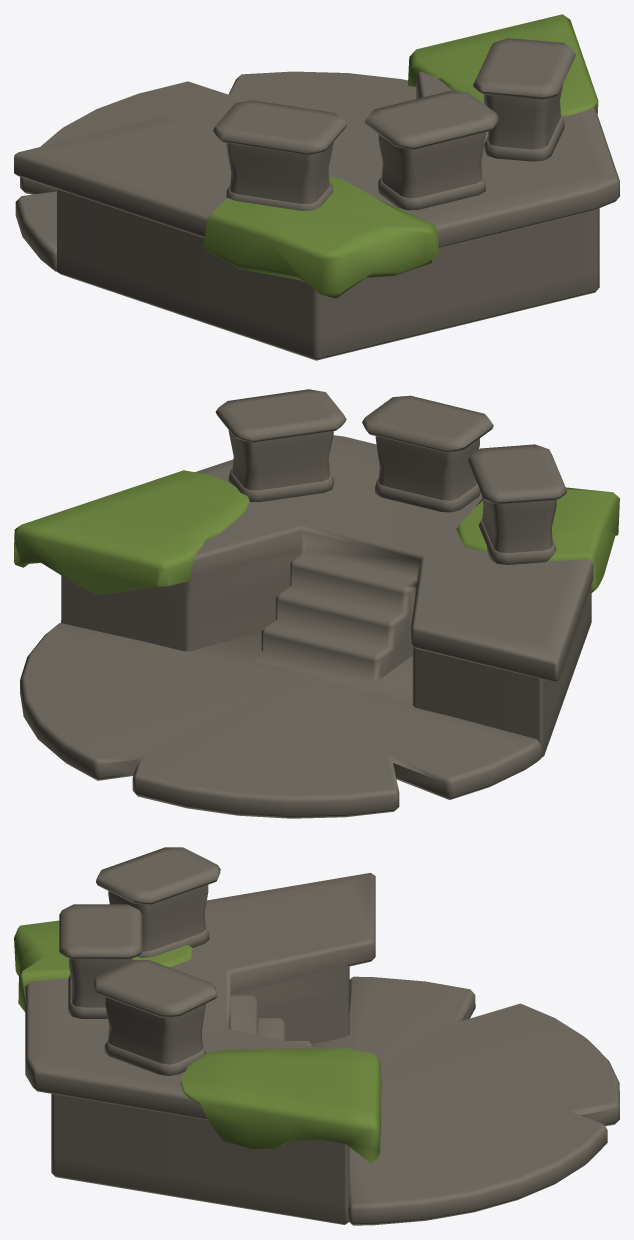
File: MSH_SpawnShrine.fbx
3 views of the same model, one above another, from view 1: azimuth 30°, elevation 25°; view 2: azimuth 150°, elevation 25°; view 3: azimuth 270°, elevation 25° (orthographic). The views are drawn at different scales.
Visible parts, largest first — view 1: MSH_spcl_Spawnshrine_main, MSH_spcl_spawnShrine_grass_02, MSH_spcl_spawnshrine_base, MSH_SpawnShrine_altar01, MSH_SpawnShrine_altar03, MSH_SpawnShrine_altar02, MSH_spcl_spawnShrine_grass_01; view 2: MSH_spcl_Spawnshrine_main, MSH_spcl_spawnshrine_base, MSH_spcl_spawnShrine_grass_01, MSH_SpawnShrine_altar02, MSH_SpawnShrine_altar01, MSH_SpawnShrine_altar03, MSH_spcl_spawnShrine_grass_02; view 3: MSH_spcl_Spawnshrine_main, MSH_spcl_spawnshrine_base, MSH_spcl_spawnShrine_grass_01, MSH_SpawnShrine_altar02, MSH_SpawnShrine_altar03, MSH_SpawnShrine_altar01, MSH_spcl_spawnShrine_grass_02.
Part boxes in pixels (<box>): MSH_spcl_Spawnshrine_main: <box>14,71,619,360</box>; MSH_spcl_spawnShrine_grass_02: <box>203,177,438,298</box>; MSH_spcl_spawnshrine_base: <box>15,71,416,271</box>; MSH_SpawnShrine_altar01: <box>364,91,499,210</box>; MSH_SpawnShrine_altar03: <box>213,100,346,210</box>; MSH_SpawnShrine_altar02: <box>473,38,575,161</box>; MSH_spcl_spawnShrine_grass_01: <box>408,14,598,115</box>; MSH_spcl_Spawnshrine_main: <box>61,435,593,757</box>; MSH_spcl_spawnshrine_base: <box>20,623,541,818</box>; MSH_spcl_spawnShrine_grass_01: <box>14,470,249,594</box>; MSH_SpawnShrine_altar02: <box>215,389,346,502</box>; MSH_SpawnShrine_altar01: <box>362,395,493,512</box>; MSH_SpawnShrine_altar03: <box>468,444,567,564</box>; MSH_spcl_spawnShrine_grass_02: <box>456,487,619,592</box>; MSH_spcl_Spawnshrine_main: <box>25,872,375,1224</box>; MSH_spcl_spawnshrine_base: <box>312,976,619,1225</box>; MSH_spcl_spawnShrine_grass_01: <box>180,1048,381,1163</box>; MSH_SpawnShrine_altar02: <box>93,960,217,1075</box>; MSH_SpawnShrine_altar03: <box>96,847,220,957</box>; MSH_SpawnShrine_altar01: <box>59,904,142,1018</box>; MSH_spcl_spawnShrine_grass_02: <box>14,920,192,1012</box>.
Bounding box in the file's own units: 15.68 × 5.23 × 15.52.
